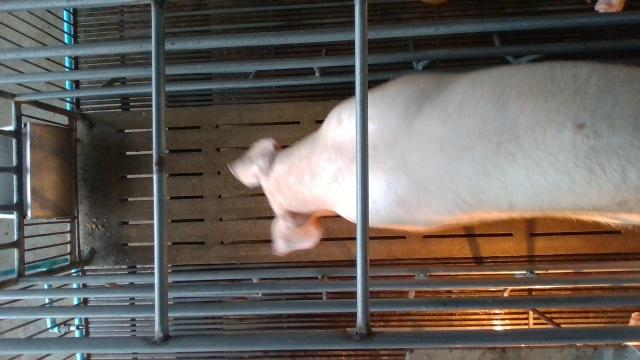sow-stand: (227, 61, 640, 257)
